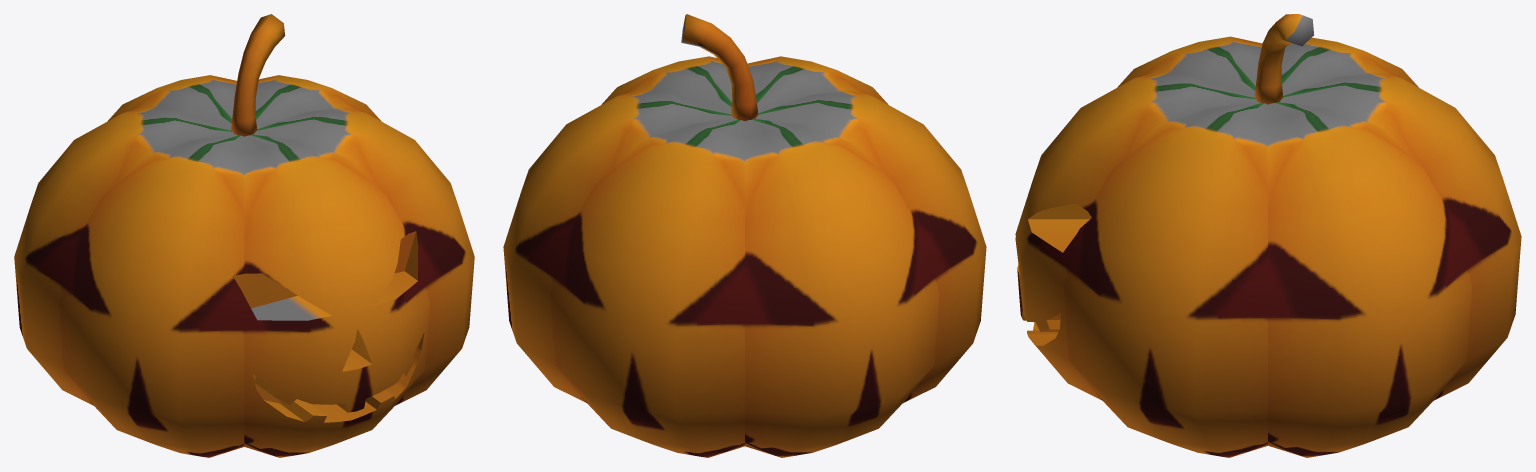
File: Pumpkin_01.fbx
3 renders of one model, left to right at view 1: azimuth 30°, elevation 25°; view 2: azimuth 150°, elevation 25°; view 3: azimuth 270°, elevation 25°, orthographic. The views are drawn at different scales.
Visible parts, largest first — view 1: Pumpkin_01; view 2: Pumpkin_01; view 3: Pumpkin_01.
Part boxes in pixels (x1,y1,x2,y2): Pumpkin_01: (14, 14, 474, 457); Pumpkin_01: (503, 14, 986, 457); Pumpkin_01: (1015, 14, 1521, 457).
Size of the model in its own units: 78.91 by 75.25 by 82.82.
